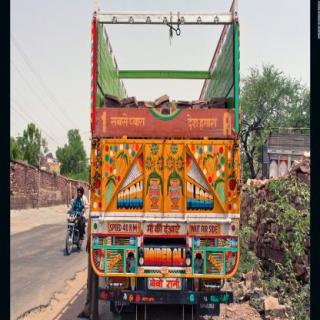Normal_vehicle: (83, 1, 245, 320)
